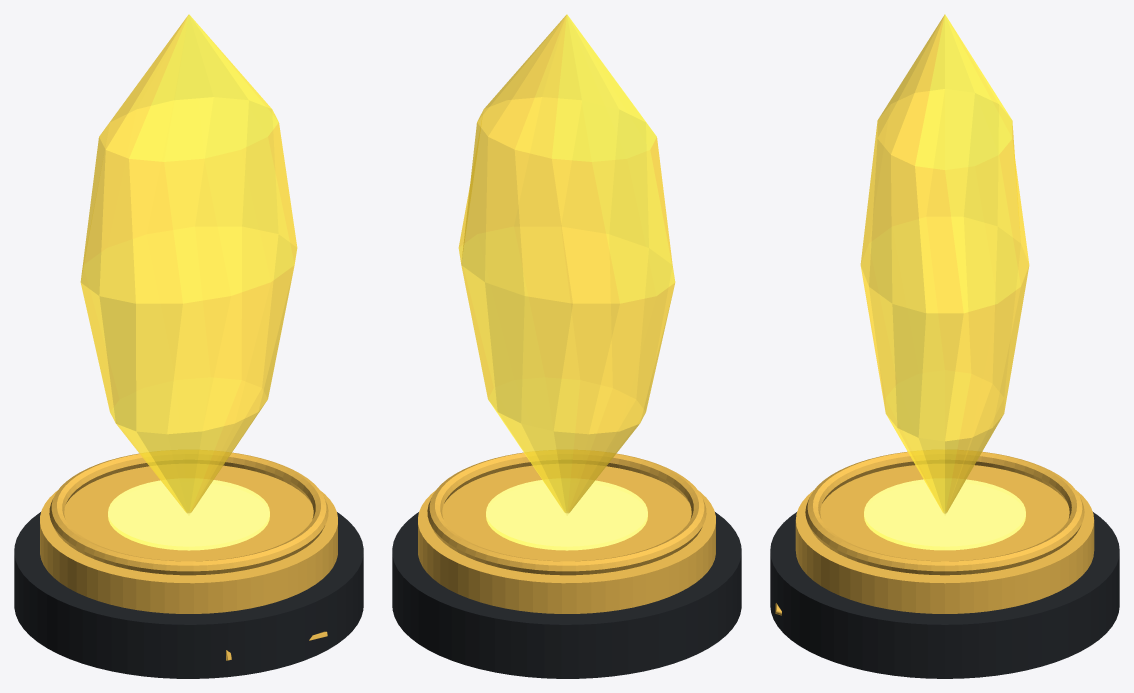
File: topaz_shard.glb
3 renders of one model, left to right at view 1: azimuth 30°, elevation 25°; view 2: azimuth 150°, elevation 25°; view 3: azimuth 270°, elevation 25°, orthographic.
Parts seen in each view (by area): view 1: topaz_crystal_body, topaz_display_base_black_gold, topaz_display_base_top, topaz_colored_light_pad, topaz_gold_base_ring; view 2: topaz_crystal_body, topaz_display_base_black_gold, topaz_display_base_top, topaz_colored_light_pad, topaz_gold_base_ring; view 3: topaz_crystal_body, topaz_display_base_black_gold, topaz_display_base_top, topaz_colored_light_pad, topaz_gold_base_ring.
Boxes of the visible parts, x1,y1,x2,y2 form: topaz_crystal_body: (80,14,297,514); topaz_display_base_black_gold: (14,512,363,678); topaz_display_base_top: (40,464,337,613); topaz_colored_light_pad: (108,479,269,550); topaz_gold_base_ring: (49,450,328,575); topaz_crystal_body: (458,14,675,514); topaz_display_base_black_gold: (392,512,741,678); topaz_display_base_top: (418,464,715,613); topaz_colored_light_pad: (486,479,647,550); topaz_gold_base_ring: (427,450,706,575); topaz_crystal_body: (860,14,1029,514); topaz_display_base_black_gold: (770,512,1119,678); topaz_display_base_top: (795,464,1094,613); topaz_colored_light_pad: (864,479,1025,550); topaz_gold_base_ring: (805,450,1084,575).
Bounding box in the file's own units: 1.64 × 3.06 × 1.64.
